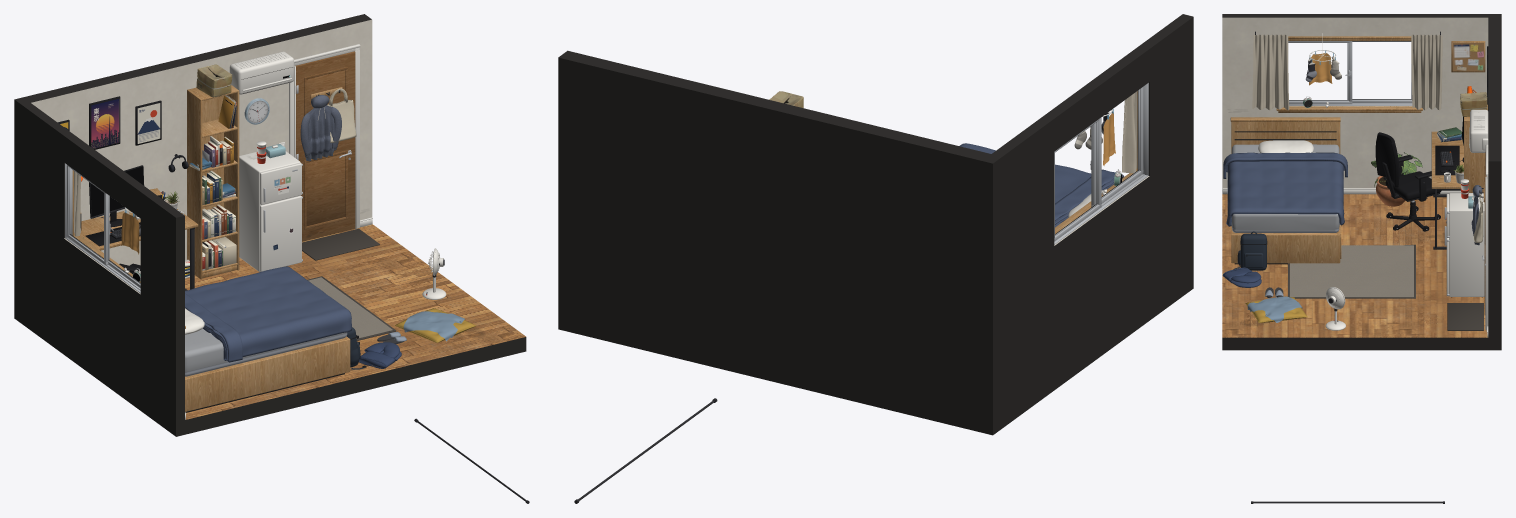
Rendered from room_clean.glb.
The picture shows the model from 3 angles, left to right: view 1: azimuth 30°, elevation 25°; view 2: azimuth 150°, elevation 25°; view 3: azimuth 270°, elevation 25°; orthographic projection. The views are drawn at different scales.
Parts seen in each view (by area): view 1: room_static, hangers_mesh, cardboard_box_01; view 2: room_static; view 3: room_static, chair_mesh, hangers_mesh, cardboard_box_01, potted_plant_02_pot, potted_plant_02_leaves.
Boxes of the visible parts, x1,y1,x2,y2 form: room_static: [14, 14, 529, 503]; hangers_mesh: [300, 87, 356, 161]; cardboard_box_01: [196, 64, 232, 97]; room_static: [558, 14, 1193, 503]; room_static: [1222, 14, 1501, 503]; chair_mesh: [1375, 132, 1441, 231]; hangers_mesh: [1471, 184, 1484, 245]; cardboard_box_01: [1460, 92, 1487, 116]; potted_plant_02_pot: [1376, 176, 1405, 206]; potted_plant_02_leaves: [1371, 152, 1422, 186].
Bounding box in the file's own units: 4.28 × 4.24 × 3.2.
Materials: 54 (29 with a texture image).
